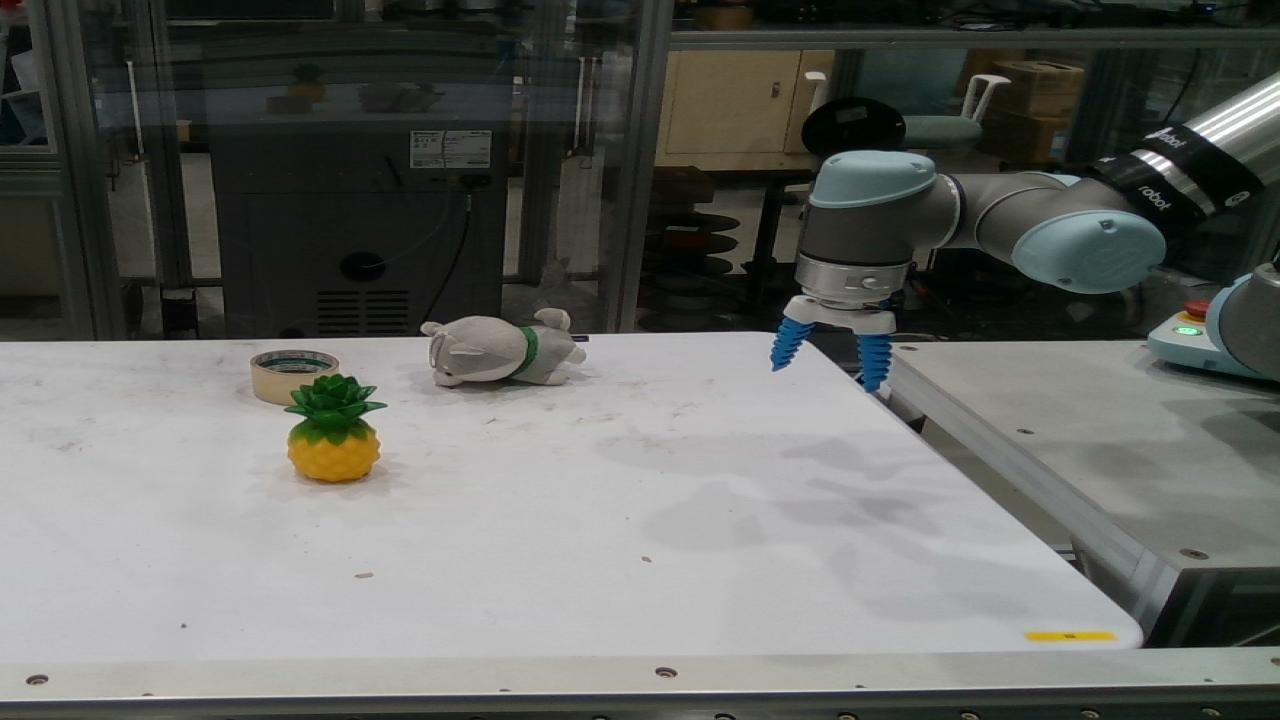UR5: (783, 70, 1279, 335), (1207, 240, 1279, 383)
gripper_left: (771, 316, 812, 372)
gripper_right: (857, 335, 893, 392)
target: (421, 308, 587, 388), (283, 373, 390, 482), (250, 349, 340, 405)
